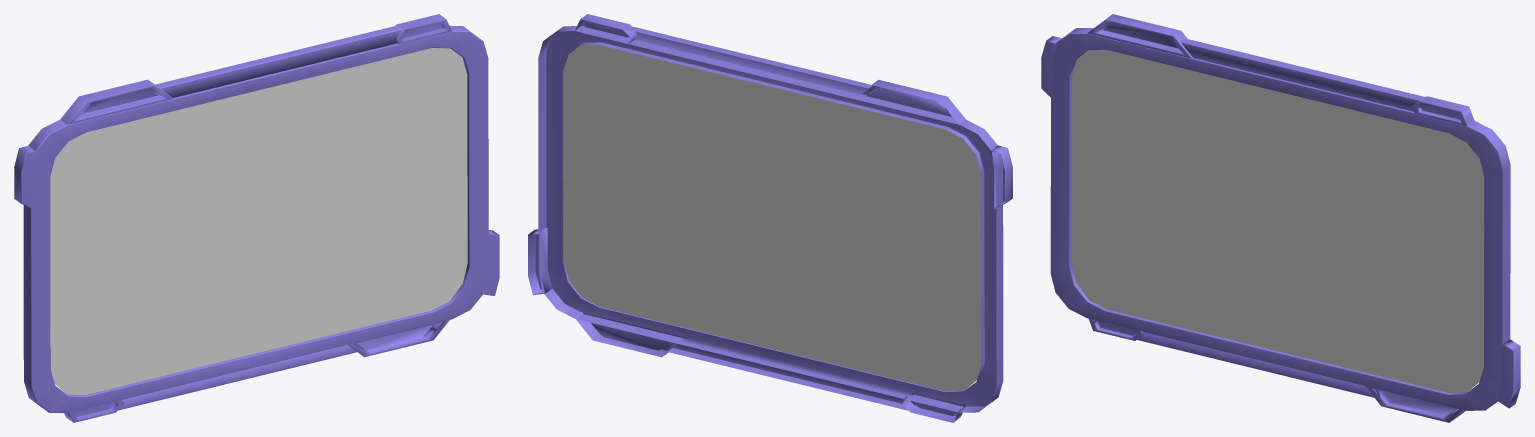
Rendered from ECRAN-NO-SUPPORT.fbx.
3 renders of one model, left to right at view 1: azimuth 30°, elevation 25°; view 2: azimuth 150°, elevation 25°; view 3: azimuth 330°, elevation 25°, orthographic.
Parts seen in each view (by area): view 1: deco_cadre_low; view 2: deco_cadre_low; view 3: deco_cadre_low.
Boxes of the visible parts, bbox=[...] form: deco_cadre_low: bbox=[14, 14, 499, 422]; deco_cadre_low: bbox=[528, 14, 1012, 422]; deco_cadre_low: bbox=[1041, 14, 1520, 422].
Bounding box in the file's own units: 1116 × 721 × 32.45.
